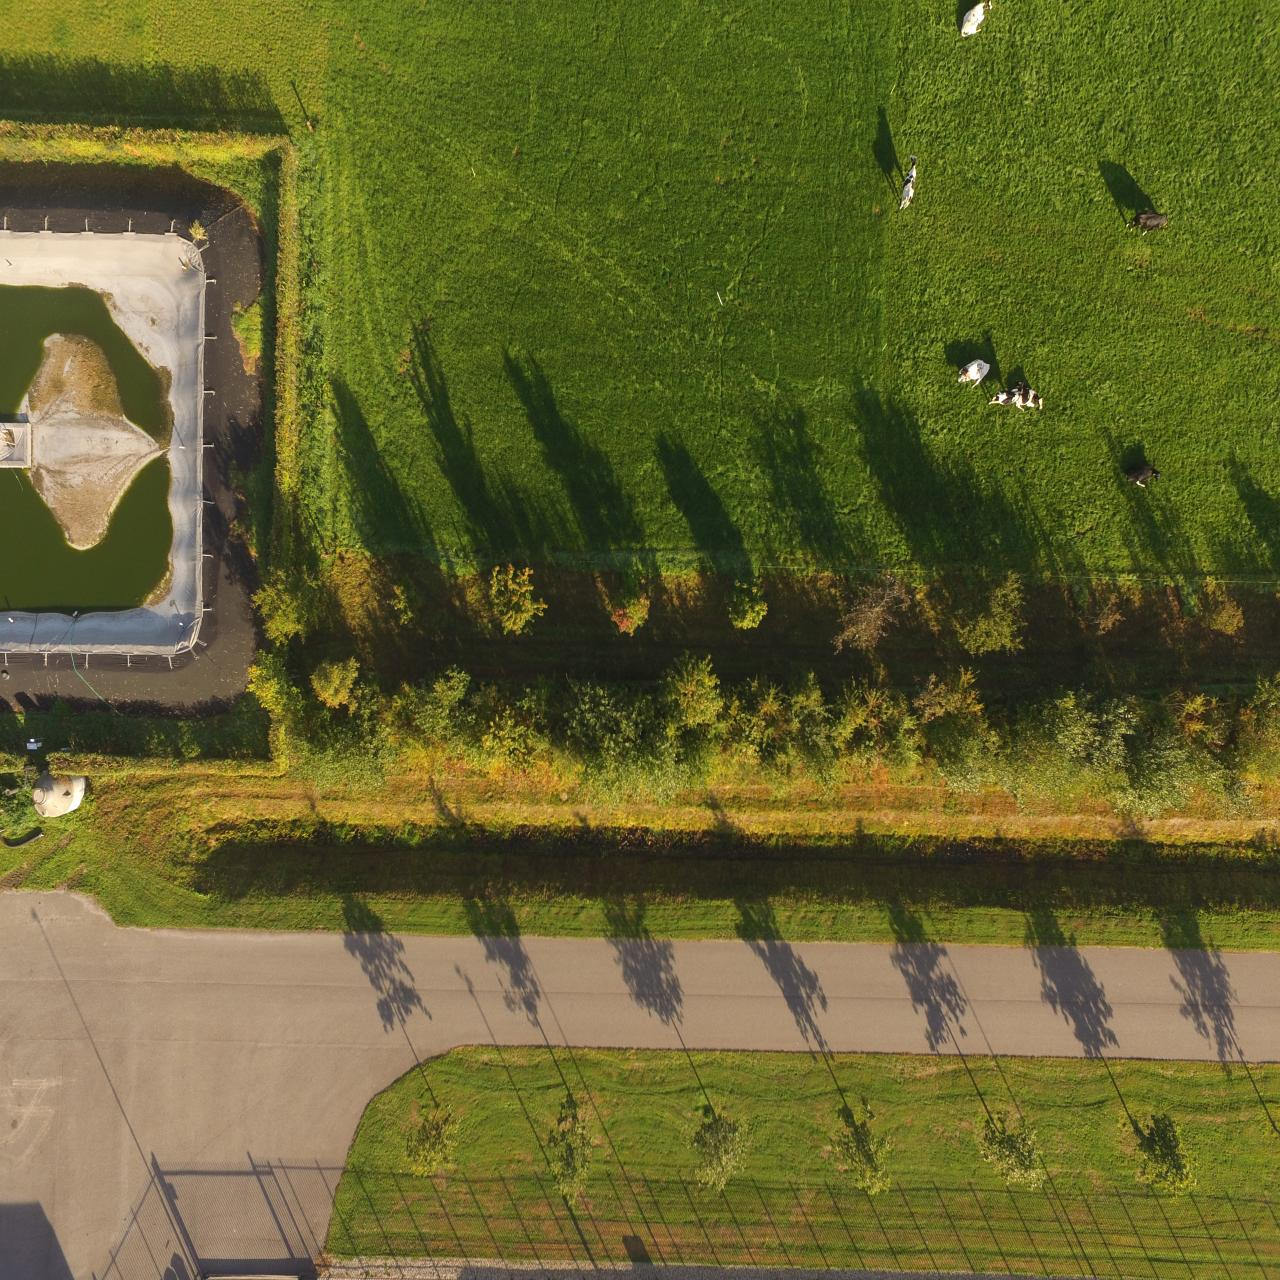cow: (892, 149, 928, 217), (954, 0, 999, 42), (952, 348, 999, 388), (1122, 203, 1172, 237), (1121, 458, 1164, 497), (986, 376, 1026, 409), (1013, 381, 1046, 416)
